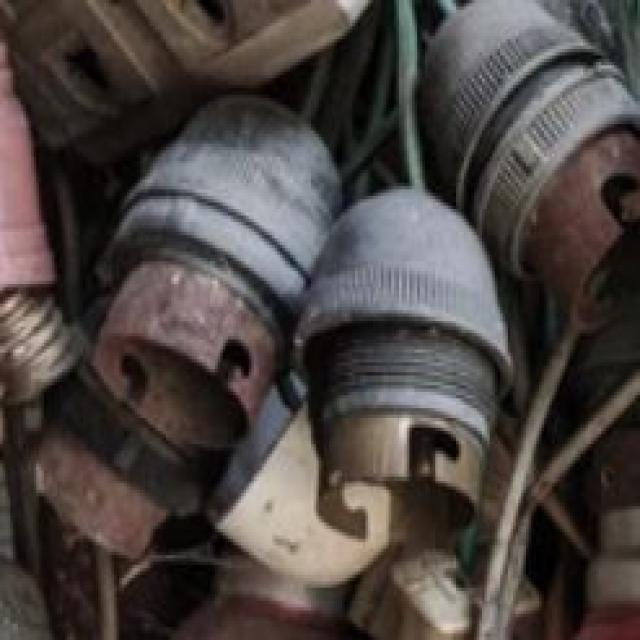electronic: (0, 0, 637, 636), (31, 88, 342, 562), (205, 183, 513, 588), (414, 0, 638, 330), (0, 26, 83, 408)
